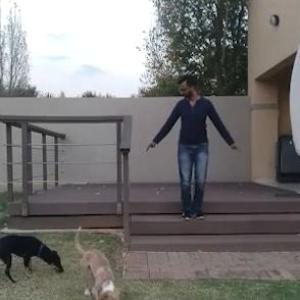land: (151, 74, 235, 230)
